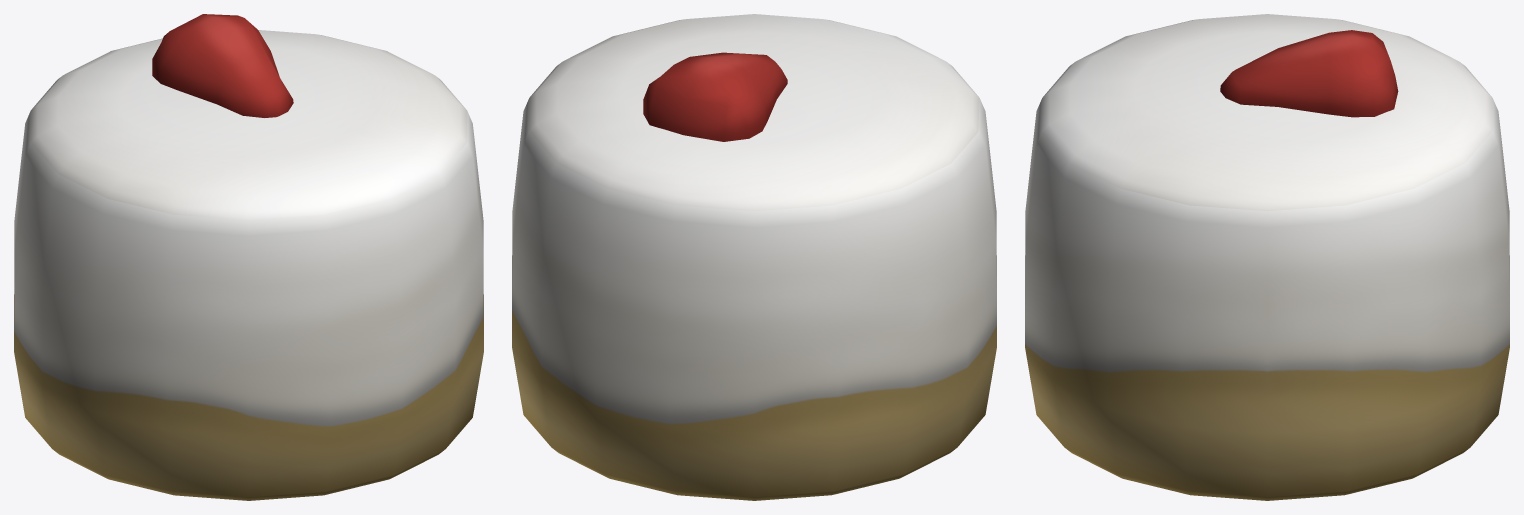
The model's file is Mimic_Mayhem_FullCake.FBX.
The picture shows the model from 3 angles, left to right: view 1: azimuth 30°, elevation 25°; view 2: azimuth 150°, elevation 25°; view 3: azimuth 270°, elevation 25°; orthographic projection. The views are drawn at different scales.
Parts seen in each view (by area): view 1: Cylinder001; view 2: Cylinder001; view 3: Cylinder001.
Part boxes in pixels (box(x1,y1,x2,y2)): Cylinder001: box(14, 14, 483, 500); Cylinder001: box(512, 14, 996, 500); Cylinder001: box(1025, 14, 1509, 500).
Bounding box in the file's own units: 22.64 × 18.82 × 22.29.
